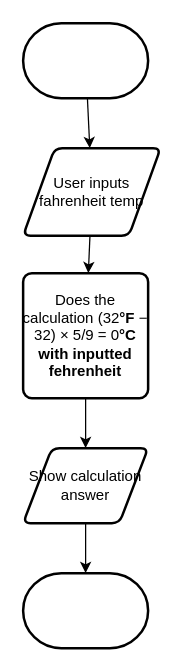
Image size: 183x670. Some labels were removed from this diagram. The box of each missing label's shape, as (x1, y1, x2, y2) in pixels:
Start: (21, 21, 149, 99)
Stop: (21, 571, 149, 649)
